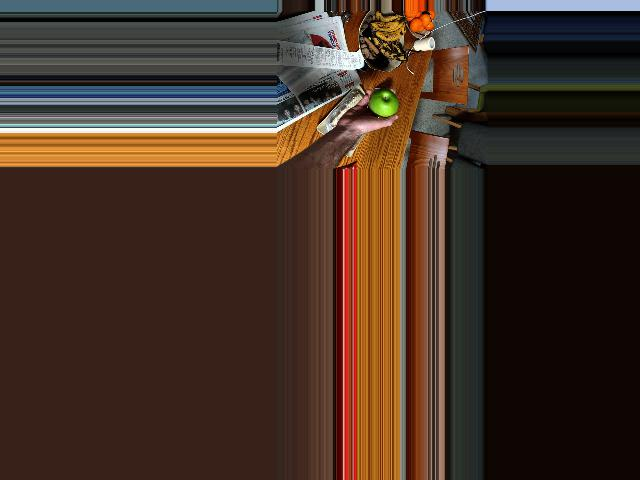apple: (367, 90, 399, 117)
